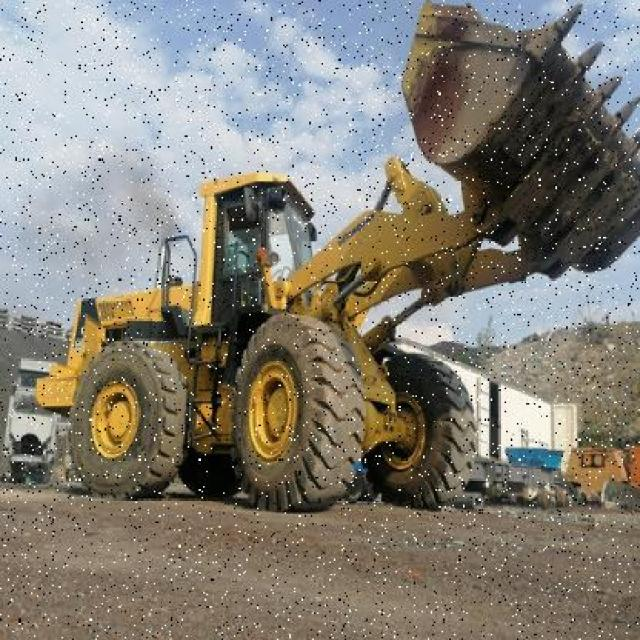bull_dozer/loader/grader: (34, 0, 640, 518)
